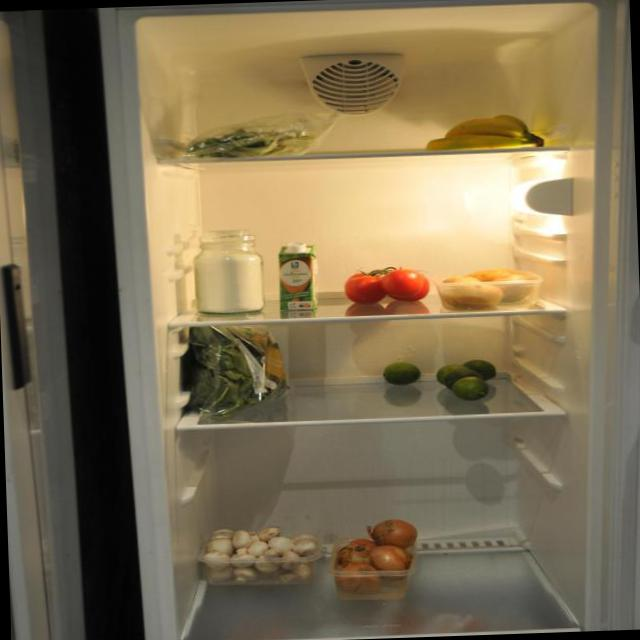Cebolla: (334, 514, 424, 604)
Champiñones: (192, 522, 322, 581)
Patata: (436, 260, 546, 312)
Plátano: (418, 110, 550, 155)
Tomate: (341, 262, 434, 308)
